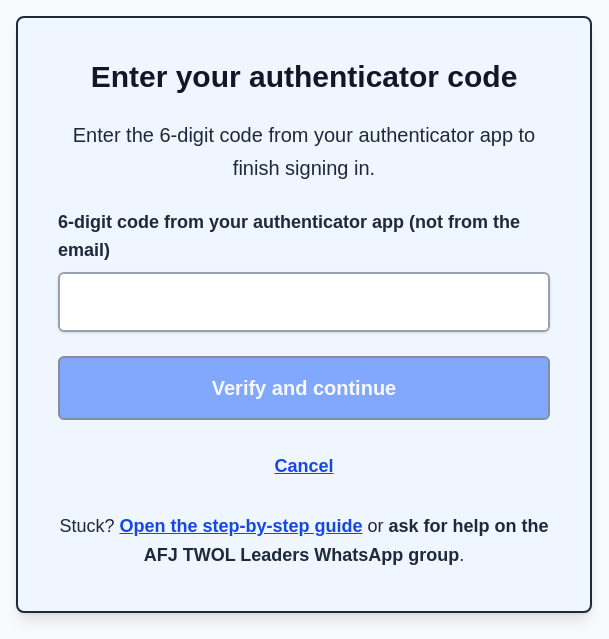
Test: LoginMfaCallbackPage › shows a role picker labeled by role when the user_id has more than one state_leaders row
The width and height of the screenshot is (609, 639).
Type "123456" into the field labelled "6-digit code". click: (304, 302)
box: top-left (58, 272), bottom-right (550, 332)
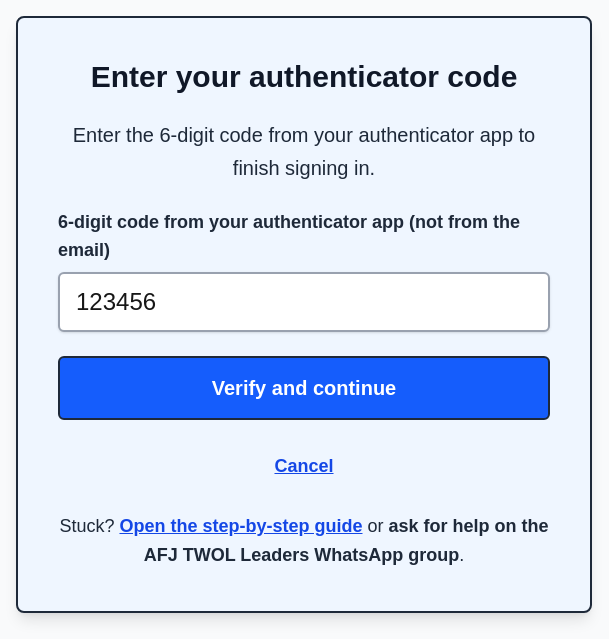
Click the button "Verify and continue". click: (304, 388)
box: top-left (58, 356), bottom-right (550, 420)
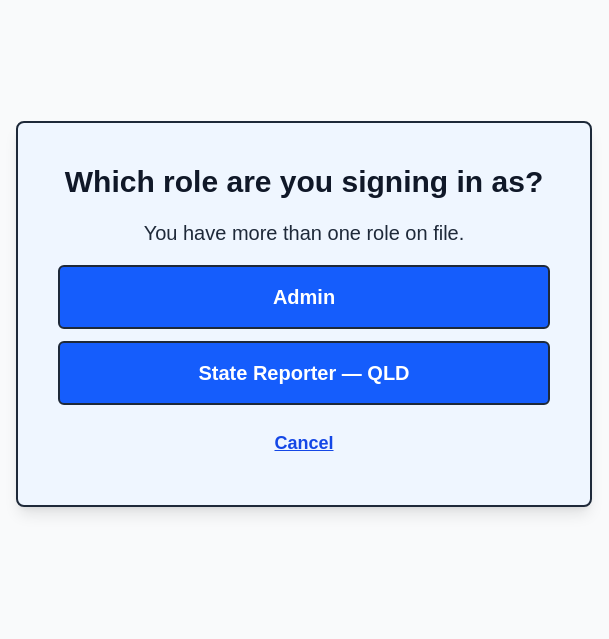
Check: the button "Admin" is shown, box top-left (58, 265), bottom-right (550, 329)
Check: the button "State Reporter — QLD" is shown, box top-left (58, 341), bottom-right (550, 405)
